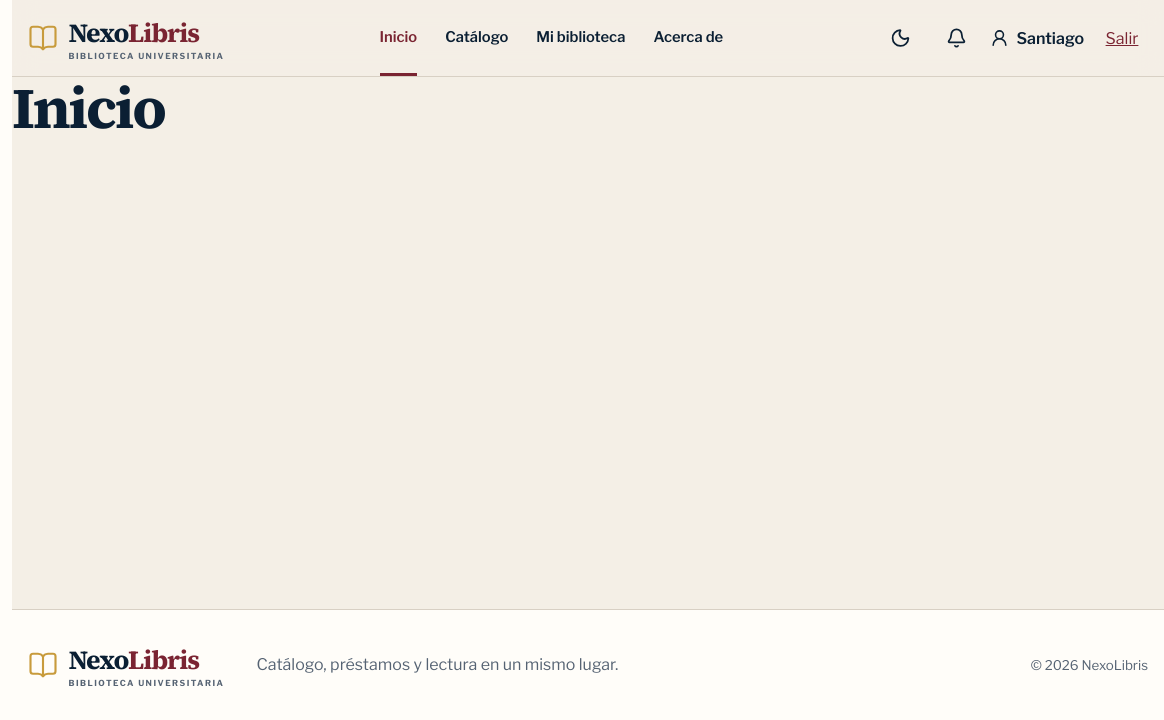
Test: AppLayout › cierra la sesión aunque el servidor no pueda responder
The width and height of the screenshot is (1164, 720).
Click the button "Salir" at {"x": 1122, "y": 38}, box [1096,19,1148,57]
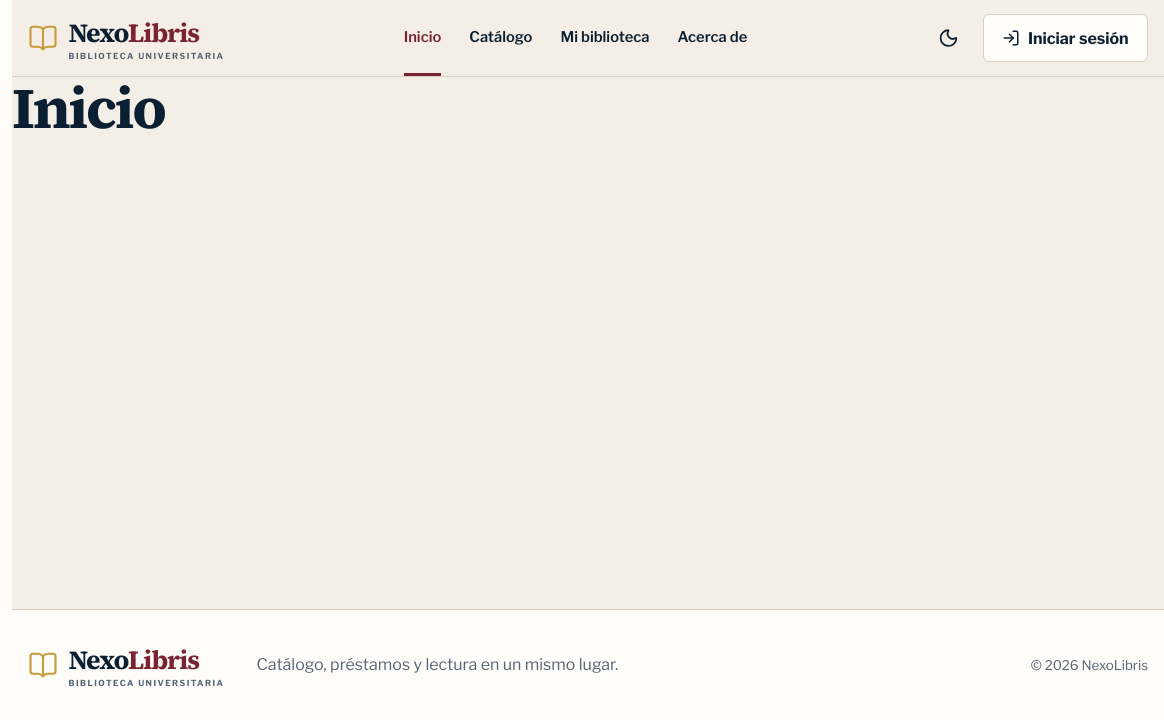
Check: the number of links "Iniciar sesión" is 2
